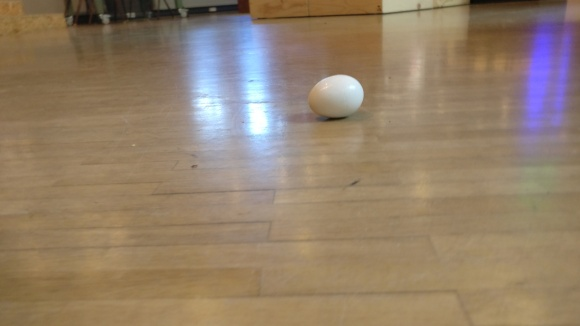egg: (305, 72, 365, 119)
